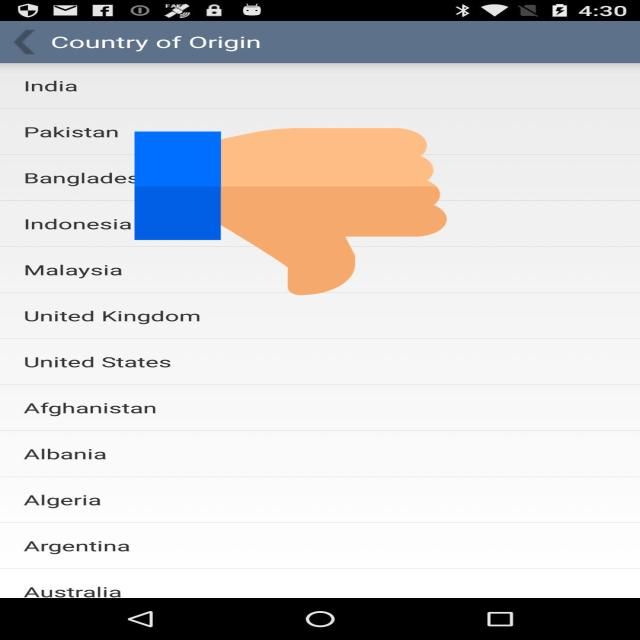obstruction: (134, 124, 447, 299)
